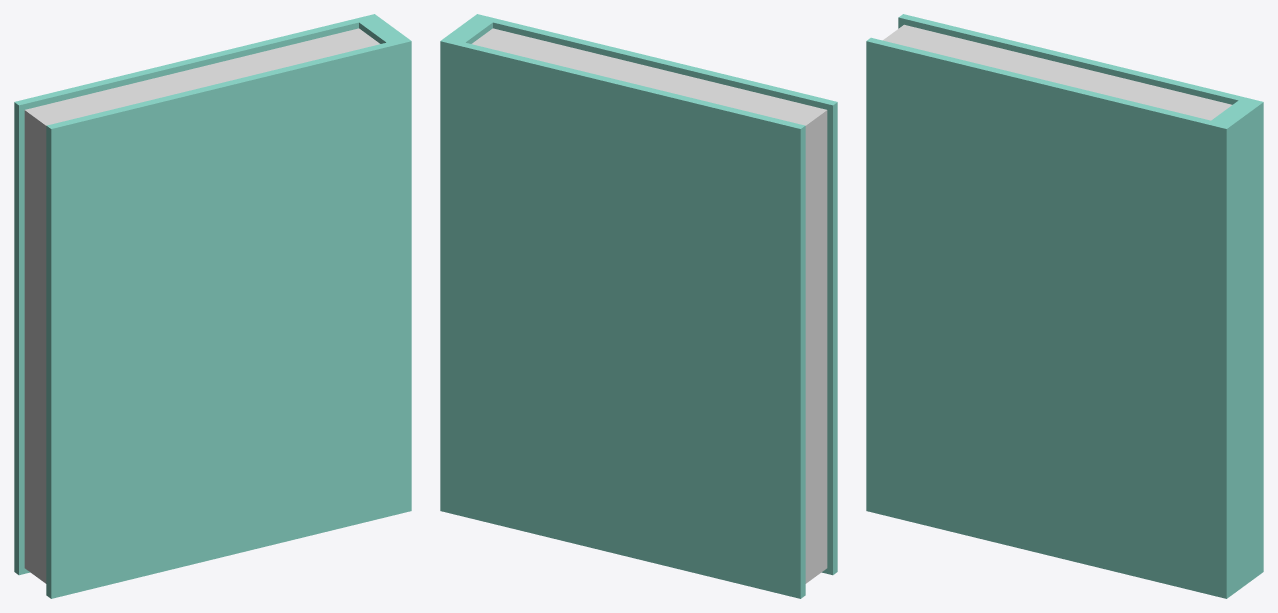
File: Livre_3.fbx
3 views of the same model, side by side, from view 1: azimuth 30°, elevation 25°; view 2: azimuth 150°, elevation 25°; view 3: azimuth 330°, elevation 25° (orthographic).
Visible parts, largest first — view 1: Livre2; view 2: Livre2; view 3: Livre2.
Part boxes in pixels (x1,y1,x2,y2): Livre2: (14,14,411,598); Livre2: (440,14,837,598); Livre2: (866,14,1263,598).
Size of the model in its own units: 38.25 by 47.63 by 6.81.
